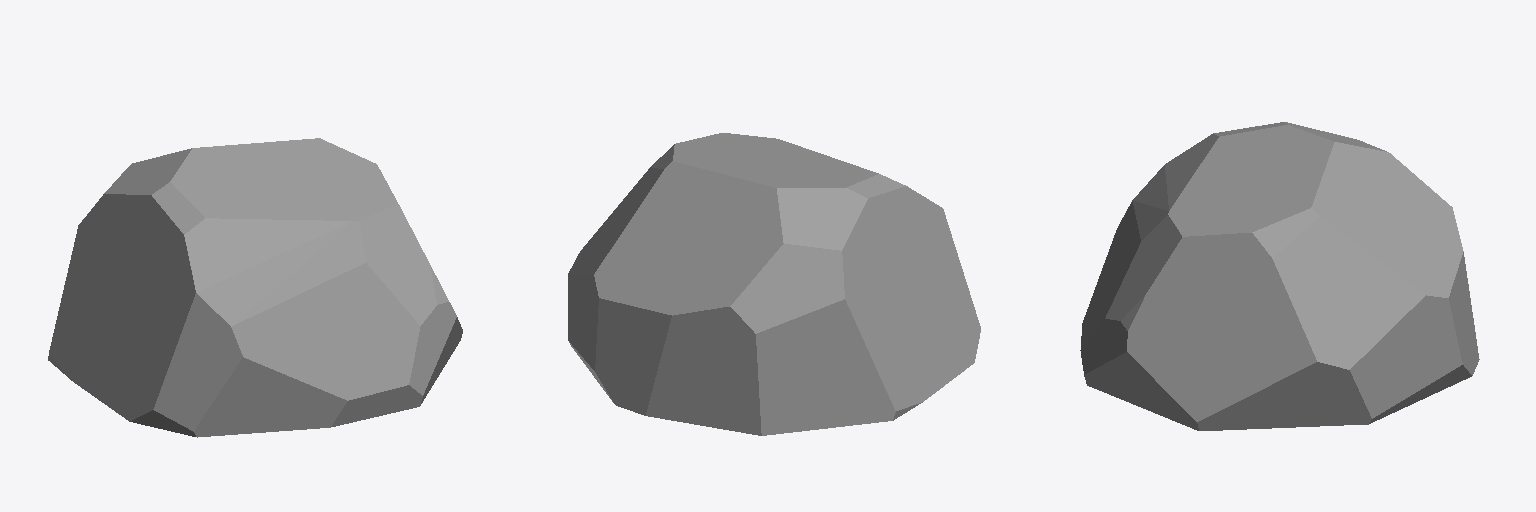
File: rock.obj
The picture shows the model from 3 angles: view 1: azimuth 30°, elevation 25°; view 2: azimuth 150°, elevation 25°; view 3: azimuth 270°, elevation 25°; orthographic projection.
Parts seen in each view (by area): view 1: Cube.001_meshId0_name; view 2: Cube.001_meshId0_name; view 3: Cube.001_meshId0_name.
Part boxes in pixels (x1,y1,x2,y2): Cube.001_meshId0_name: (48, 138, 462, 437); Cube.001_meshId0_name: (568, 133, 980, 435); Cube.001_meshId0_name: (1080, 122, 1479, 430).
Size of the model in its own units: 5.23 by 2.85 by 5.34.